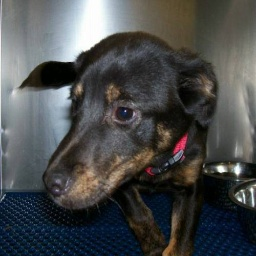dog: (38, 30, 218, 251)
